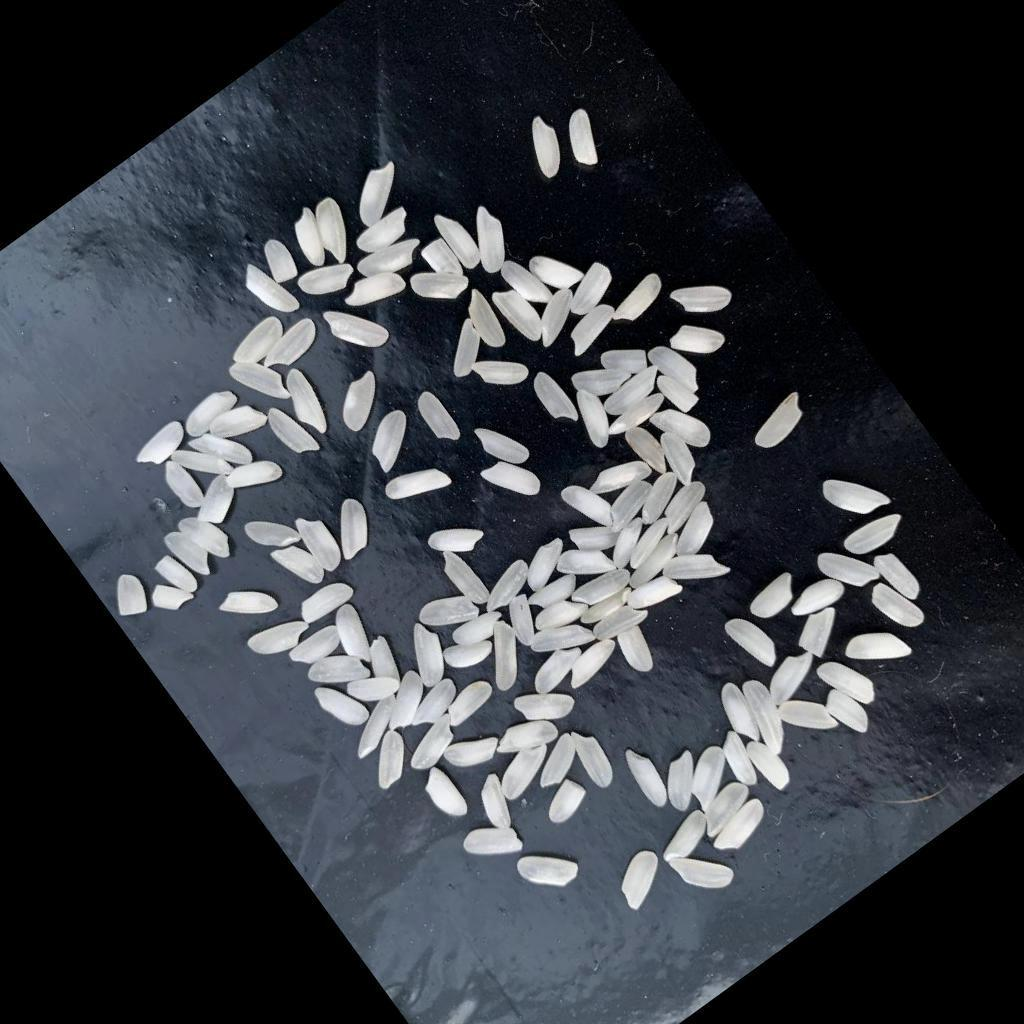rice: (731, 675, 804, 757), (819, 458, 894, 534), (469, 617, 543, 694), (323, 291, 394, 365), (343, 159, 417, 230), (456, 203, 526, 278), (676, 741, 748, 813), (842, 615, 915, 686), (342, 691, 417, 760), (669, 835, 739, 907), (650, 394, 718, 465), (395, 620, 462, 692), (371, 669, 441, 737), (528, 608, 599, 675), (229, 348, 296, 419), (357, 228, 430, 293), (190, 418, 258, 487), (663, 537, 733, 604), (491, 737, 562, 803), (383, 452, 454, 518), (275, 368, 339, 441), (816, 535, 883, 604), (481, 447, 548, 516), (329, 369, 398, 436), (172, 429, 239, 498), (306, 640, 375, 707), (492, 707, 563, 772), (303, 196, 368, 267), (516, 835, 584, 902), (360, 408, 428, 475), (818, 648, 883, 718), (746, 391, 817, 455), (706, 797, 777, 861), (239, 255, 303, 326), (610, 846, 678, 912), (256, 316, 327, 379), (775, 684, 841, 751), (320, 494, 386, 561), (692, 775, 761, 839), (401, 713, 470, 777), (324, 601, 387, 671), (586, 448, 656, 511), (620, 530, 691, 592), (514, 672, 581, 737), (671, 266, 738, 331), (409, 251, 476, 316), (516, 113, 579, 182), (341, 260, 410, 323), (712, 681, 774, 751), (555, 534, 621, 599), (417, 582, 484, 646), (525, 286, 592, 350), (758, 646, 826, 709), (652, 750, 717, 815), (462, 814, 528, 878), (662, 501, 729, 564), (724, 609, 786, 677), (564, 384, 626, 452), (491, 279, 552, 348), (867, 573, 929, 640), (178, 504, 240, 571), (560, 473, 622, 540), (791, 602, 856, 665), (313, 673, 375, 739), (249, 608, 316, 669), (648, 336, 709, 403), (842, 506, 910, 566), (360, 728, 423, 792), (526, 732, 591, 794), (555, 107, 616, 173), (619, 743, 678, 811), (565, 724, 624, 792), (601, 364, 670, 422), (435, 319, 498, 382), (218, 574, 282, 636), (297, 250, 362, 311), (206, 393, 271, 454), (526, 639, 592, 699), (562, 300, 628, 360), (228, 314, 294, 374), (476, 558, 542, 618), (264, 398, 323, 465), (436, 544, 494, 612), (527, 239, 589, 302), (472, 341, 534, 403), (186, 473, 249, 534), (443, 722, 507, 782), (559, 260, 623, 320), (654, 809, 719, 868), (403, 677, 468, 736), (668, 311, 730, 372), (427, 510, 490, 570), (474, 412, 533, 476), (629, 470, 693, 529), (180, 384, 245, 442), (599, 477, 664, 535), (458, 288, 515, 354), (431, 207, 488, 273), (293, 509, 350, 575), (517, 536, 580, 595), (499, 252, 557, 316), (286, 206, 344, 270), (359, 634, 417, 698), (654, 478, 718, 536), (571, 560, 636, 617), (608, 272, 672, 329), (470, 773, 528, 835), (274, 535, 332, 597), (132, 419, 195, 476), (164, 522, 221, 585), (529, 368, 585, 432), (820, 682, 877, 744), (245, 504, 304, 563), (567, 507, 627, 565), (225, 449, 286, 506), (563, 635, 626, 690), (355, 206, 418, 261), (787, 571, 849, 626), (872, 546, 927, 608), (714, 729, 769, 791), (289, 620, 351, 675), (621, 516, 683, 571), (608, 390, 672, 443), (346, 659, 405, 716), (654, 428, 709, 489), (413, 389, 467, 451), (746, 571, 806, 626), (419, 764, 473, 825), (441, 675, 502, 729), (298, 574, 359, 628), (602, 517, 661, 572), (626, 568, 686, 622), (598, 333, 655, 389), (744, 733, 797, 793), (450, 604, 510, 657), (624, 421, 677, 481), (499, 592, 553, 650), (592, 598, 651, 650), (158, 456, 209, 515), (104, 570, 158, 625), (441, 626, 497, 679), (527, 569, 585, 620), (614, 622, 666, 678), (581, 583, 639, 632), (540, 776, 594, 828), (257, 236, 306, 288), (155, 551, 202, 603), (655, 366, 702, 418), (148, 572, 197, 620), (423, 237, 469, 286)
